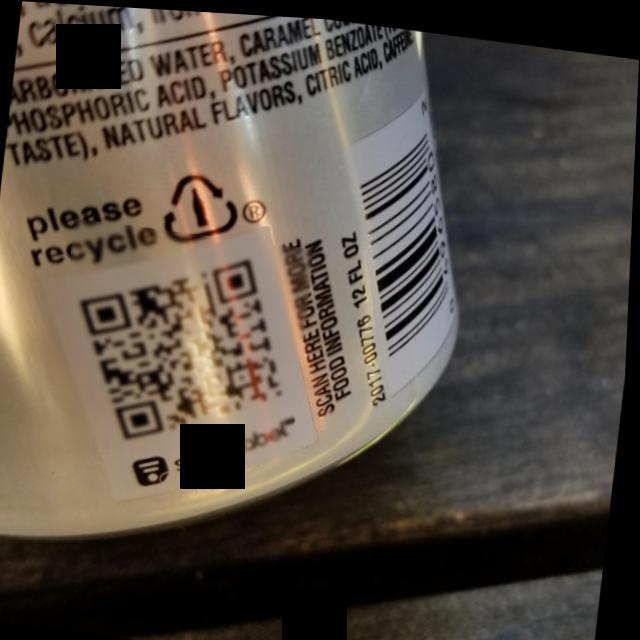QR_CODE: (53, 217, 316, 465)
